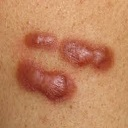Keloids: (17, 62, 71, 100), (62, 37, 109, 68), (23, 32, 57, 48)
